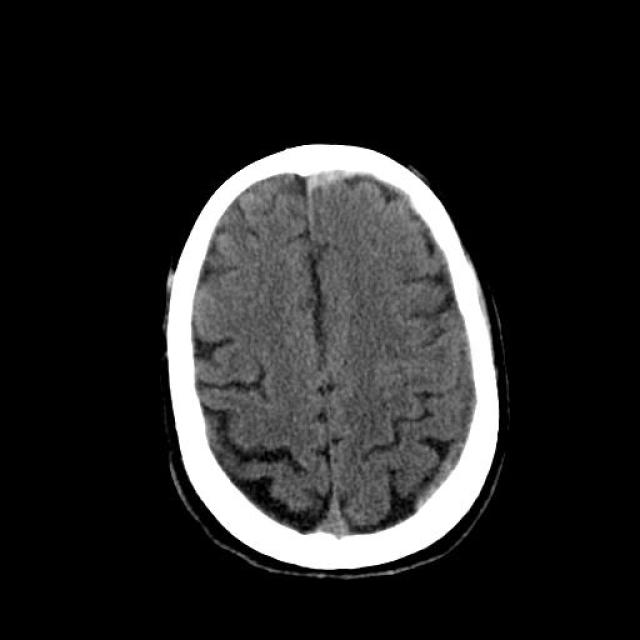Subdural: (281, 148, 384, 228)
